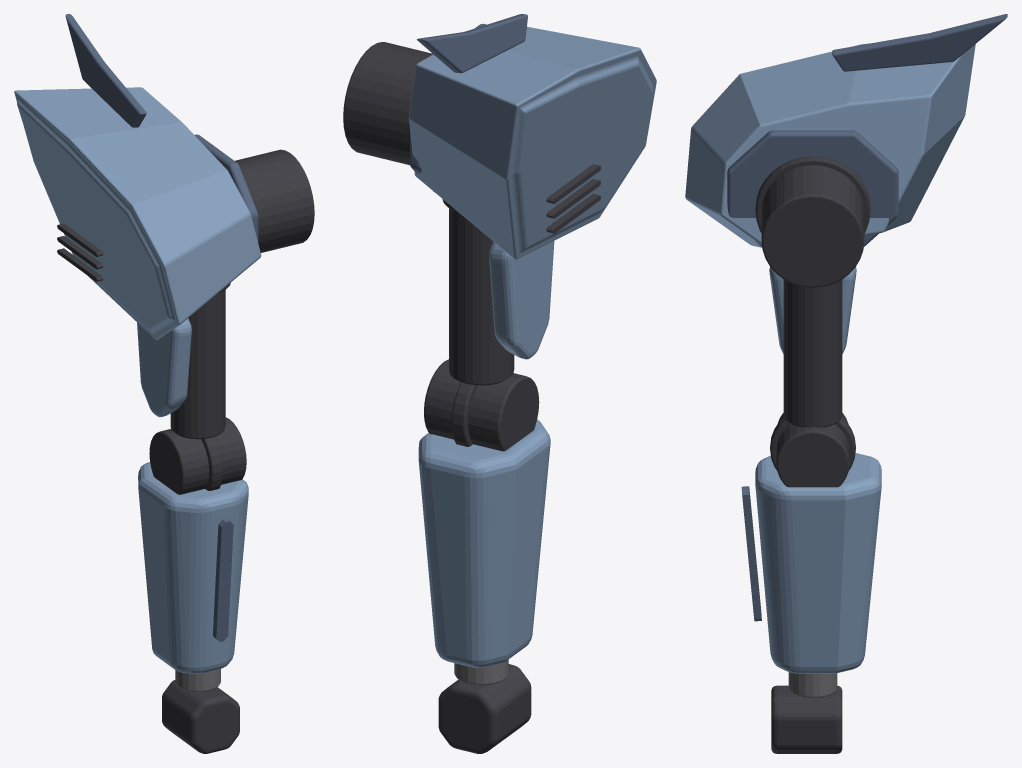
File: recon_sleek_arm_r.glb
3 views of the same model, side by side, from view 1: azimuth 30°, elevation 25°; view 2: azimuth 150°, elevation 25°; view 3: azimuth 270°, elevation 25° (orthographic). The views are drawn at different scales.
Visible parts, largest first — view 1: PauldronR, ForearmR, UpperArmFrameR, ShoulderJointR, ElbowR, FistR, UpperArmR, PauldronFinR, ForearmStripeR, PauldronInnerR, WristR; view 2: PauldronR, ForearmR, UpperArmFrameR, ShoulderJointR, ElbowR, UpperArmR, FistR, PauldronFinR, WristR, PauldronVentR, PauldronVentR1, PauldronVentR2; view 3: PauldronR, ForearmR, ShoulderJointR, UpperArmFrameR, PauldronInnerR, ElbowR, PauldronFinR, FistR, UpperArmR, ForearmStripeR, WristR.
Boxes of the visible parts, left/top/right/bottom form: PauldronR: left=14, top=87, right=261, bottom=339; ForearmR: left=138, top=462, right=248, bottom=673; UpperArmFrameR: left=170, top=283, right=230, bottom=439; ShoulderJointR: left=235, top=149, right=314, bottom=252; ElbowR: left=149, top=417, right=246, bottom=494; FistR: left=162, top=680, right=239, bottom=753; UpperArmR: left=137, top=318, right=191, bottom=417; PauldronFinR: left=65, top=14, right=146, bottom=127; ForearmStripeR: left=213, top=518, right=233, bottom=641; PauldronInnerR: left=194, top=134, right=258, bottom=242; WristR: left=175, top=669, right=220, bottom=691; PauldronR: left=408, top=26, right=656, bottom=259; ForearmR: left=418, top=419, right=550, bottom=667; UpperArmFrameR: left=442, top=199, right=514, bottom=385; ShoulderJointR: left=343, top=42, right=432, bottom=165; ElbowR: left=424, top=359, right=539, bottom=451; UpperArmR: left=489, top=241, right=554, bottom=359; FistR: left=438, top=664, right=531, bottom=753; PauldronFinR: left=417, top=14, right=527, bottom=73; WristR: left=454, top=659, right=508, bottom=685; PauldronVentR: left=546, top=164, right=600, bottom=203; PauldronVentR1: left=546, top=179, right=600, bottom=218; PauldronVentR2: left=546, top=193, right=600, bottom=233; PauldronR: left=685, top=43, right=975, bottom=247; ForearmR: left=755, top=453, right=881, bottom=673; ShoulderJointR: left=755, top=156, right=870, bottom=287; UpperArmFrameR: left=783, top=279, right=842, bottom=427; PauldronInnerR: left=727, top=130, right=898, bottom=246; ElbowR: left=770, top=413, right=855, bottom=487; PauldronFinR: left=832, top=14, right=1007, bottom=71; FistR: left=771, top=685, right=842, bottom=753; UpperArmR: left=769, top=267, right=856, bottom=353; ForearmStripeR: left=741, top=486, right=761, bottom=621; WristR: left=788, top=672, right=837, bottom=698.
Bounding box in the file's own units: 2.04 × 6.43 × 2.63.
